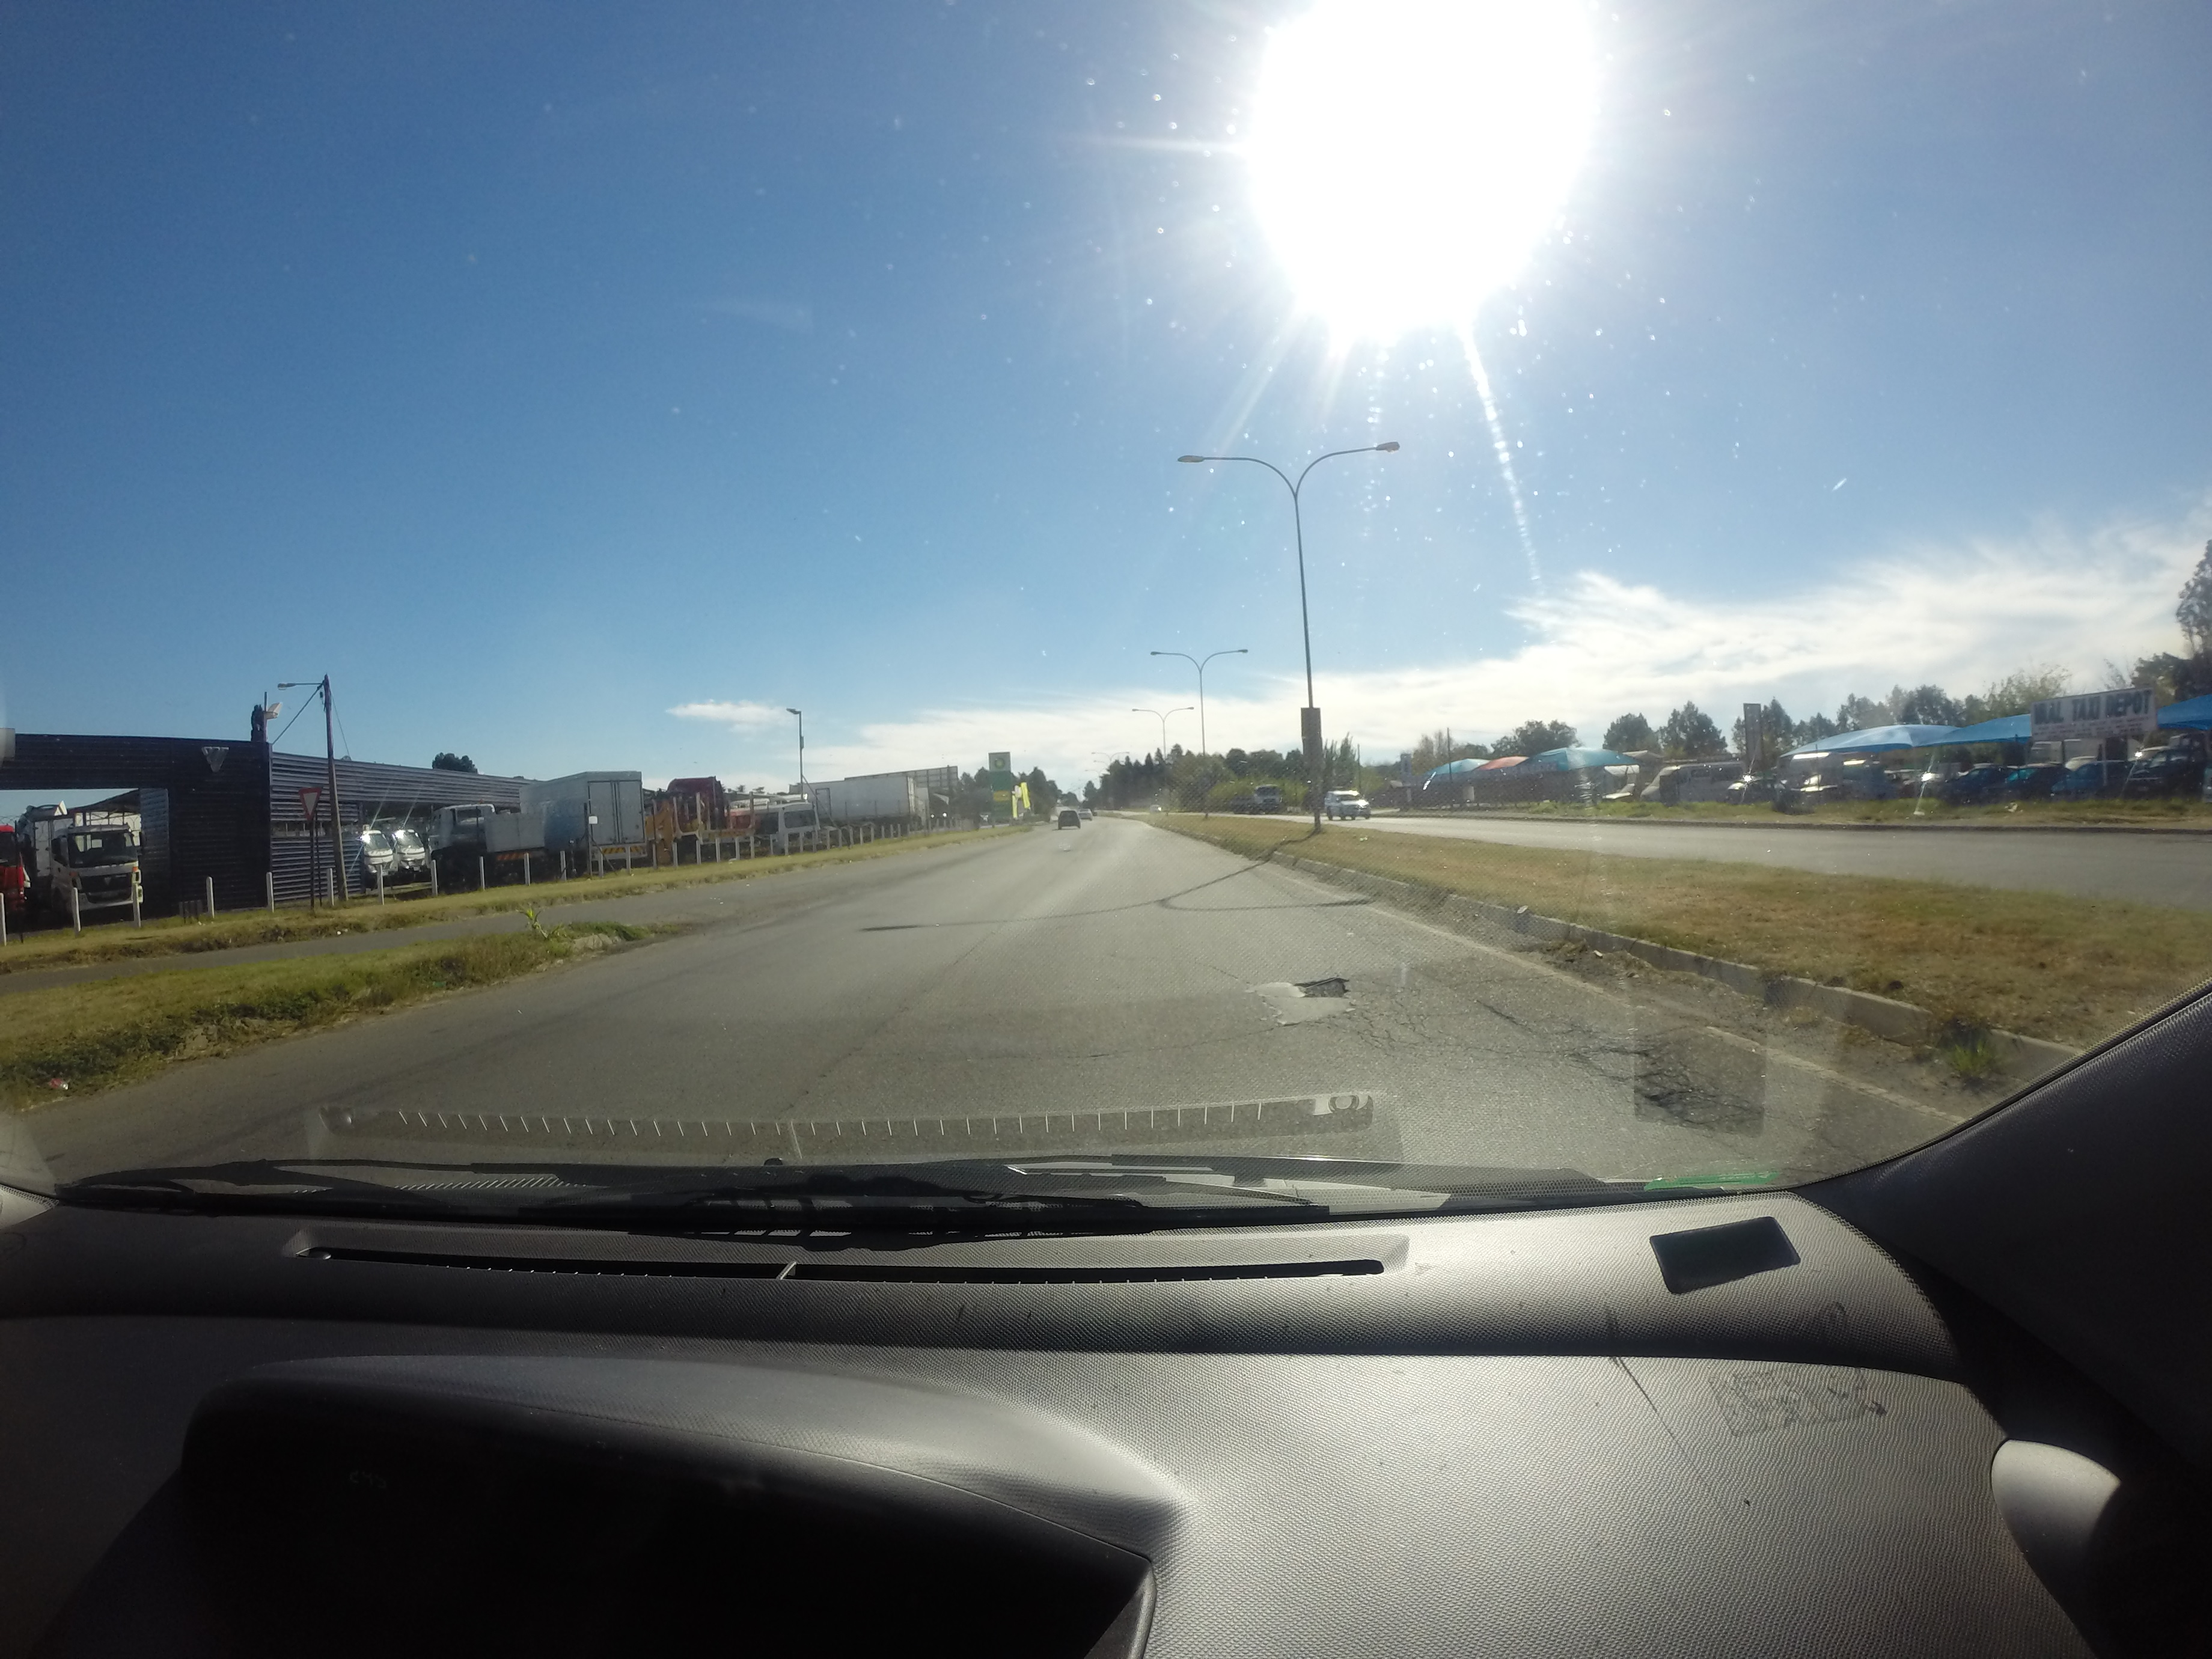pothole: (1531, 1002, 1766, 1150), (1256, 934, 1407, 1075)
